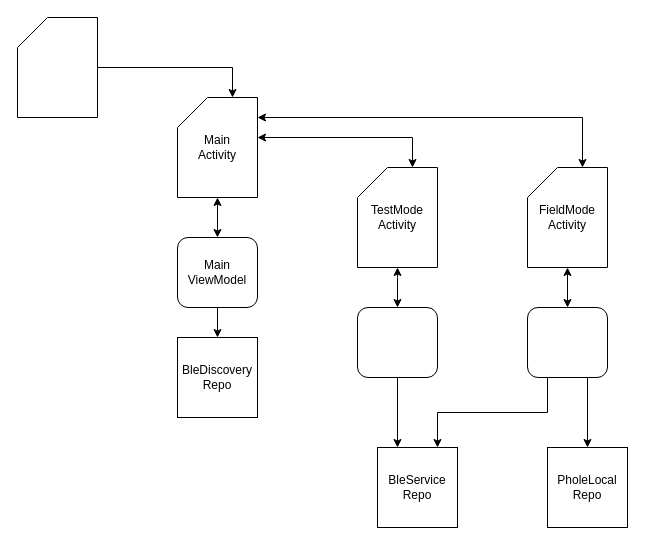
Image size: 645x545. Some labels were removed from this diagram. Here are the shapes that lost their labels. From the top down, the box of each, then its label:
(16, 16, 98, 118): Splash Activity
(356, 306, 438, 378): TestMode ViewModel
(526, 306, 608, 378): FieldMode ViewModel
